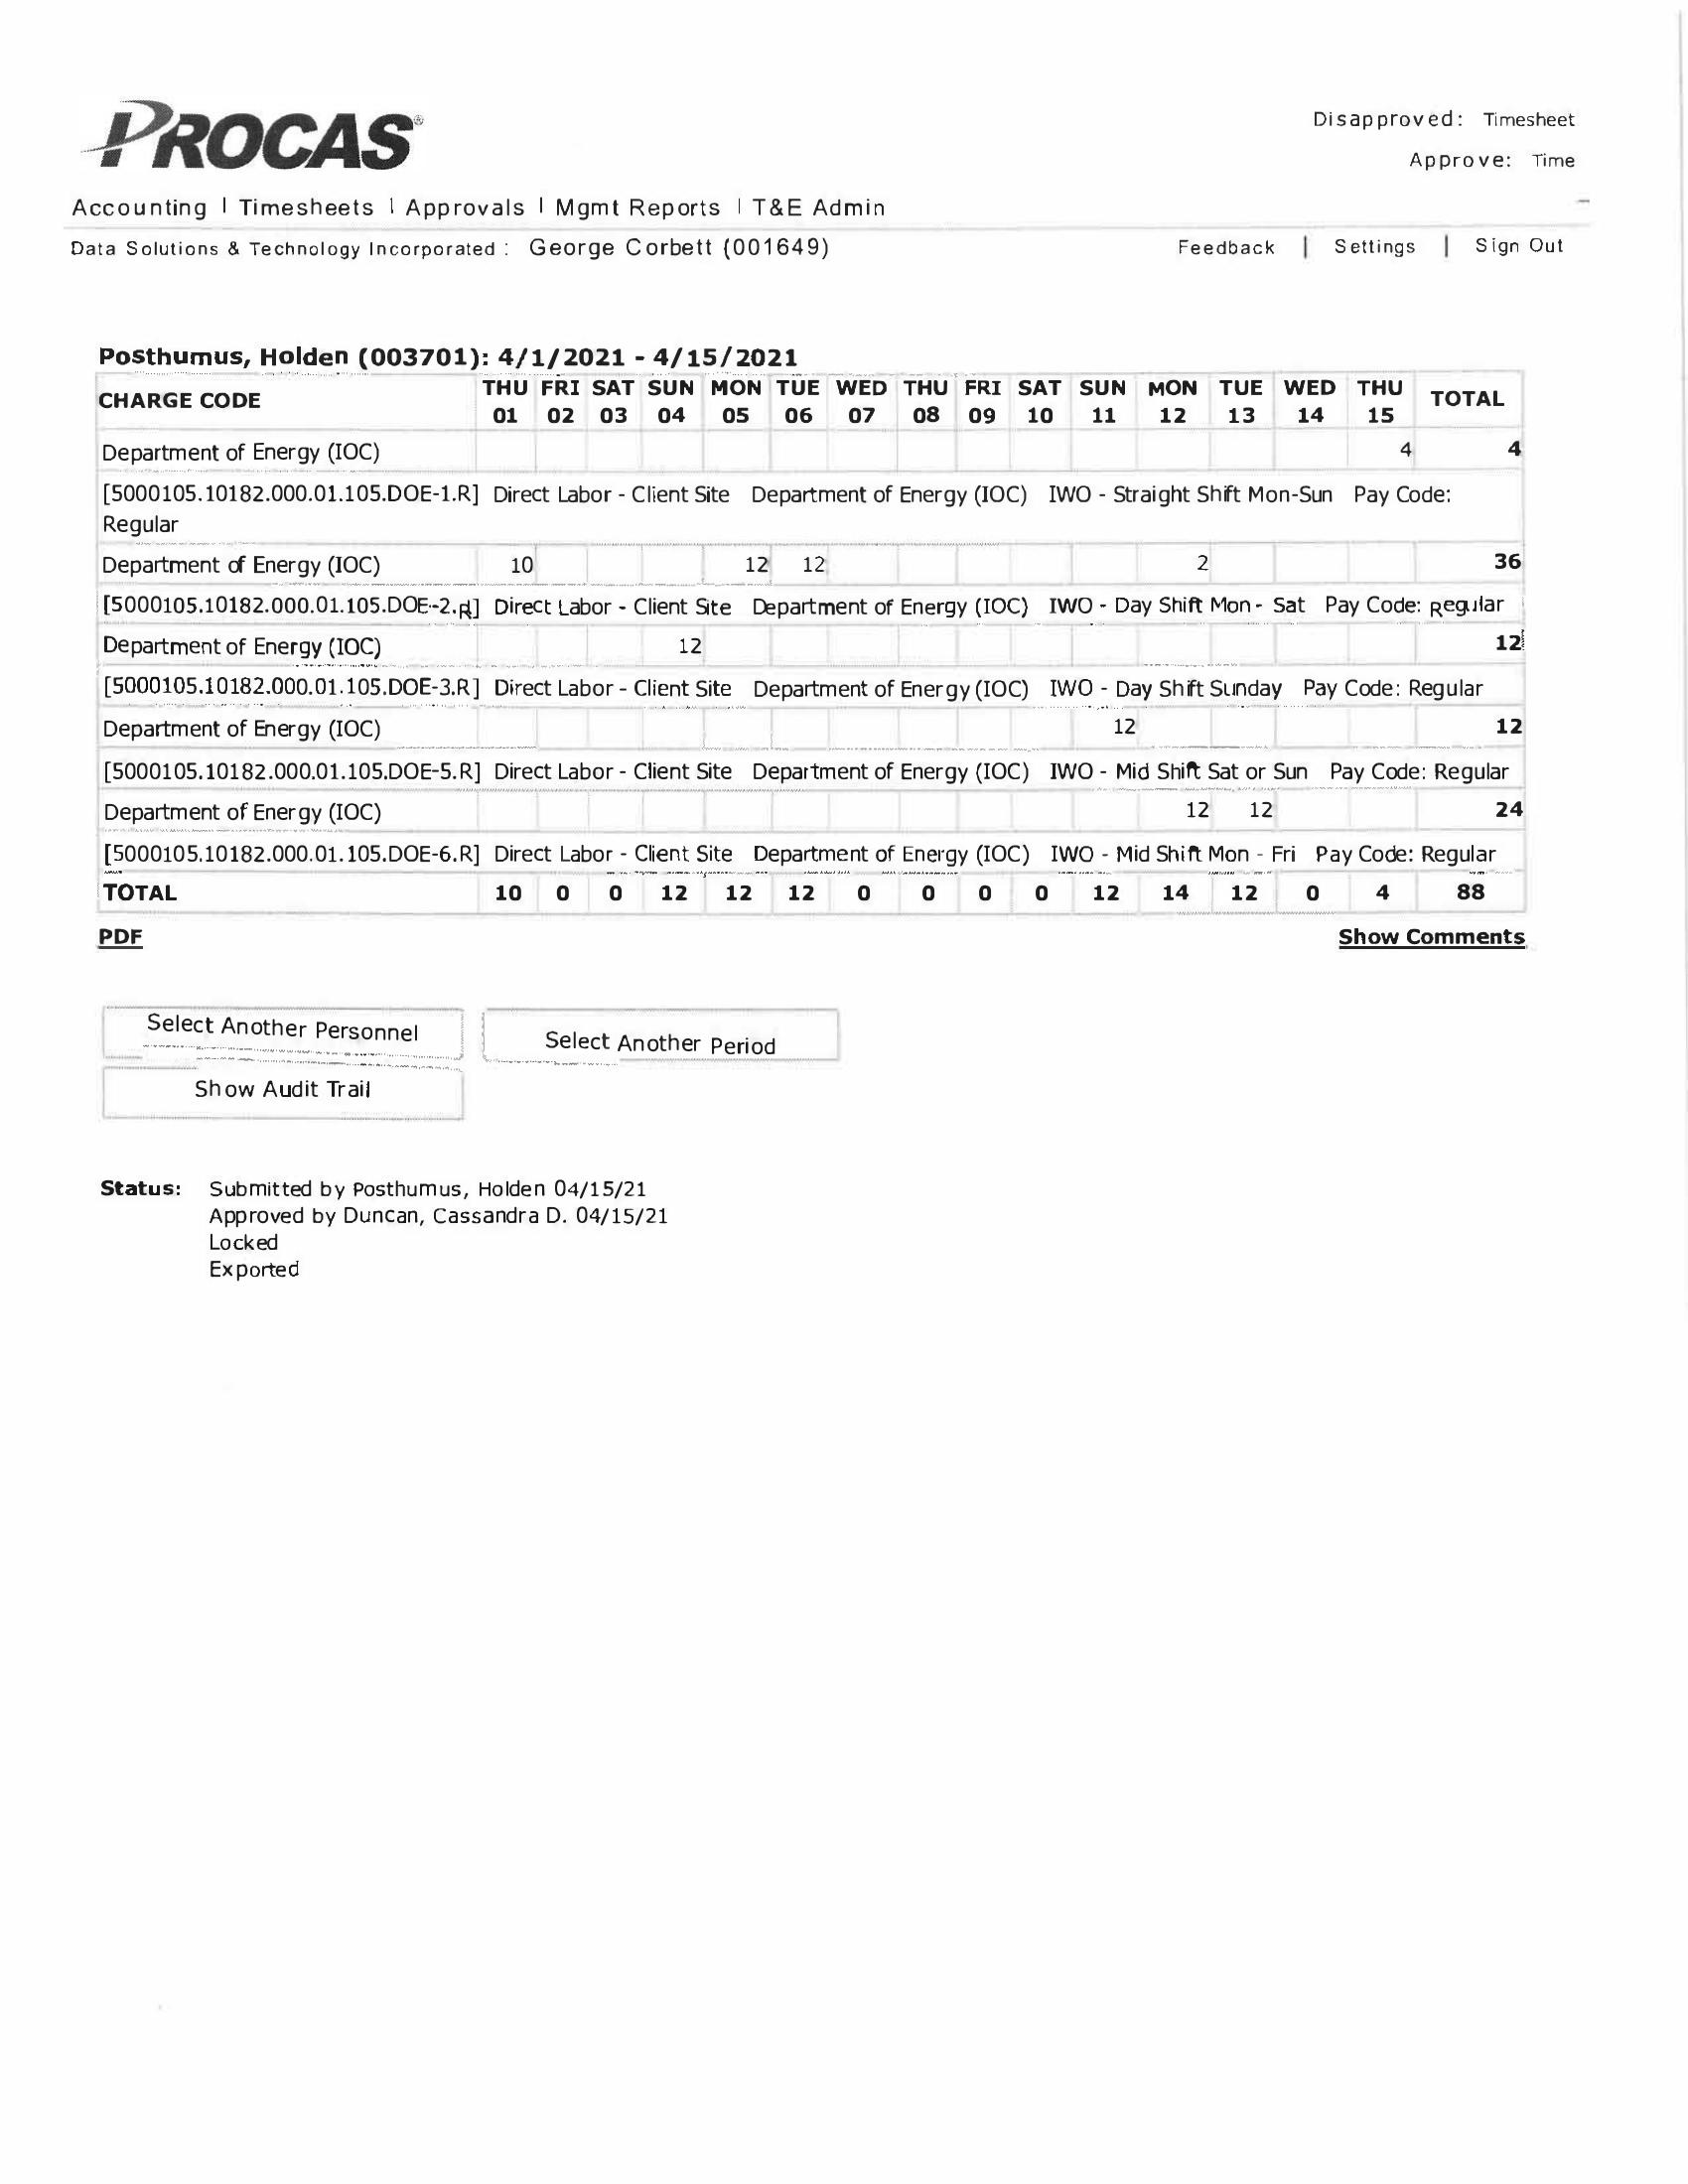table: (92, 374, 1546, 915)
